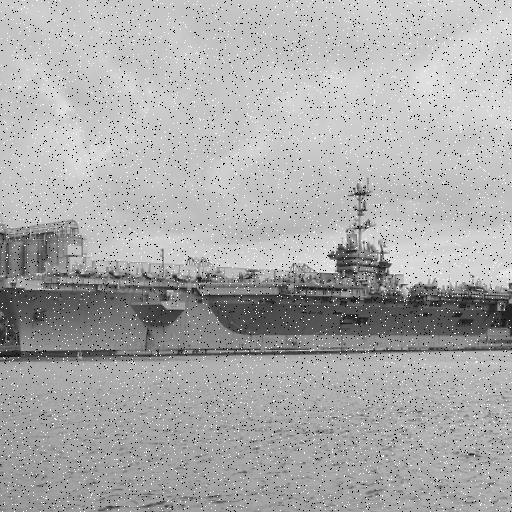Portanaves: (1, 163, 512, 362)
